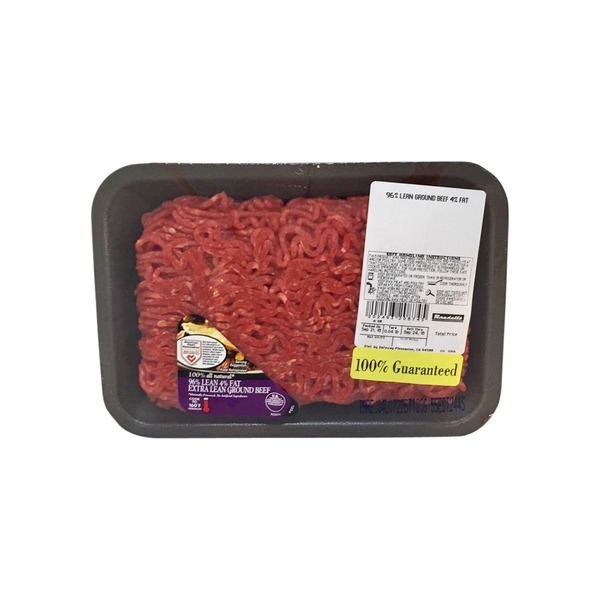ground_beef: (131, 197, 463, 408)
